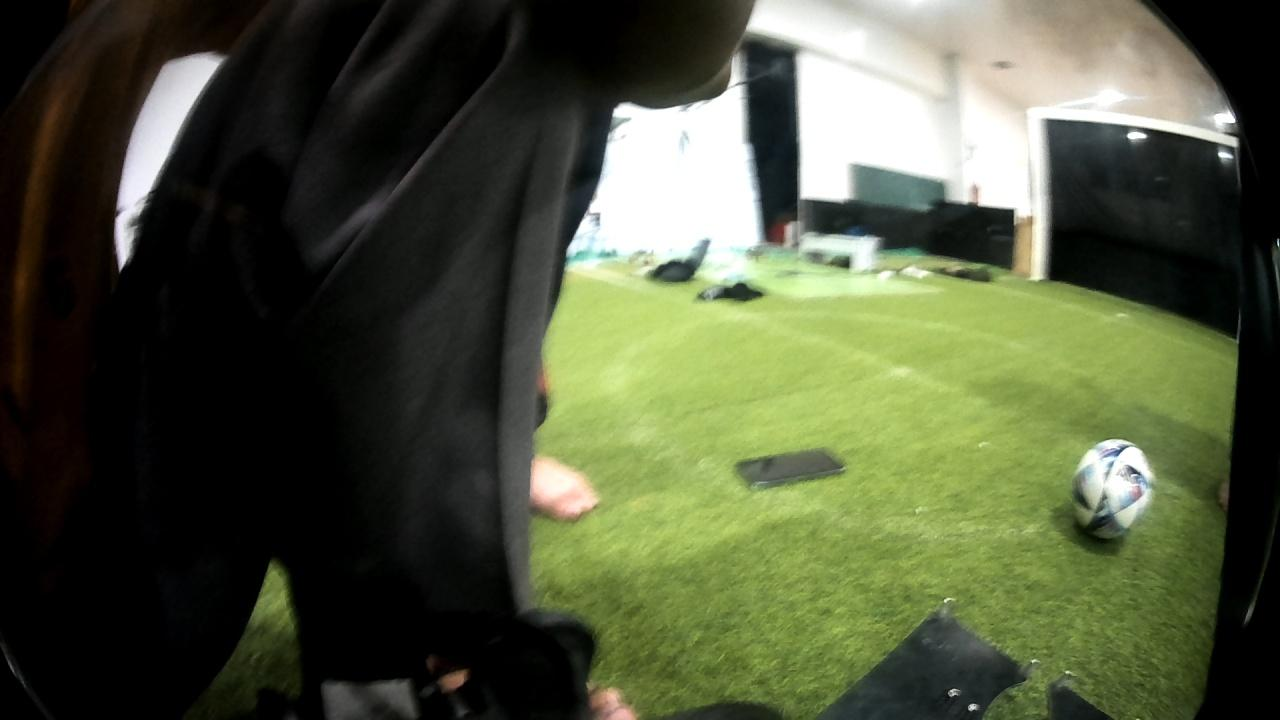ball: (1073, 435, 1161, 547)
